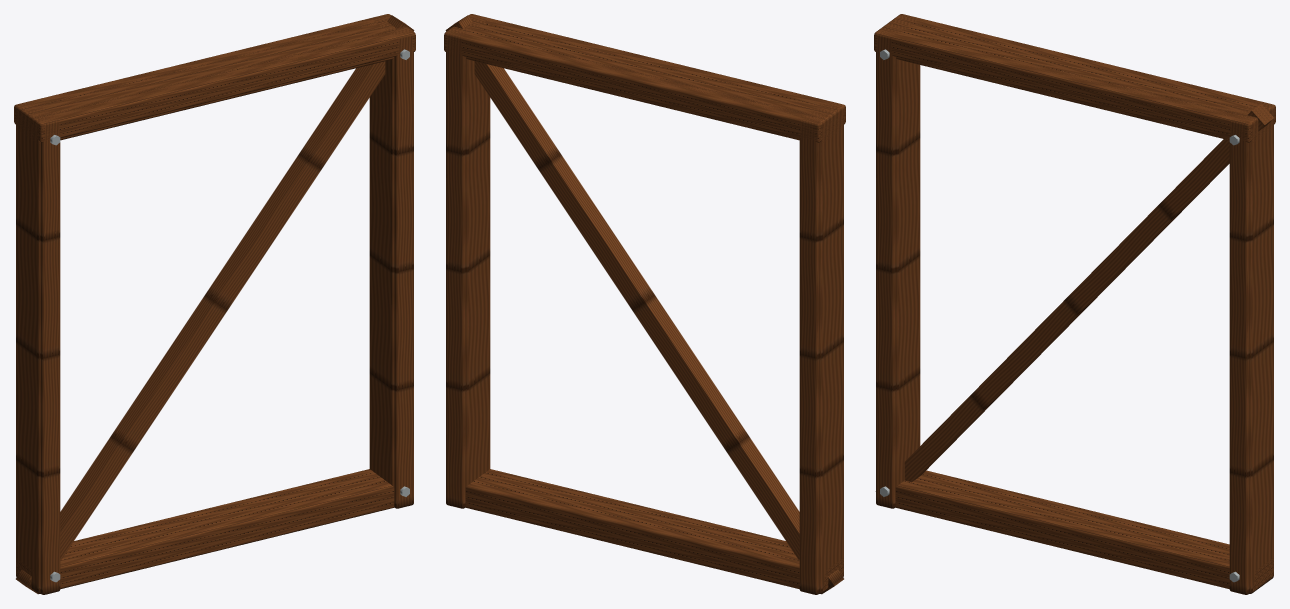
File: prehistoric-survivor-settlement-branch-braced-wall-85e0961a__23167.glb
3 views of the same model, side by side, from view 1: azimuth 30°, elevation 25°; view 2: azimuth 150°, elevation 25°; view 3: azimuth 330°, elevation 25° (orthographic).
Visible parts, largest first — view 1: branch-braced-wall; view 2: branch-braced-wall; view 3: branch-braced-wall.
Boxes of the visible parts, left/top/right/bottom form: branch-braced-wall: left=14, top=14, right=415, bottom=594; branch-braced-wall: left=444, top=14, right=845, bottom=594; branch-braced-wall: left=874, top=14, right=1275, bottom=594.
Size of the model in its own units: 2.07 by 2.46 by 0.2775.
Materials: 2 (1 with a texture image).
